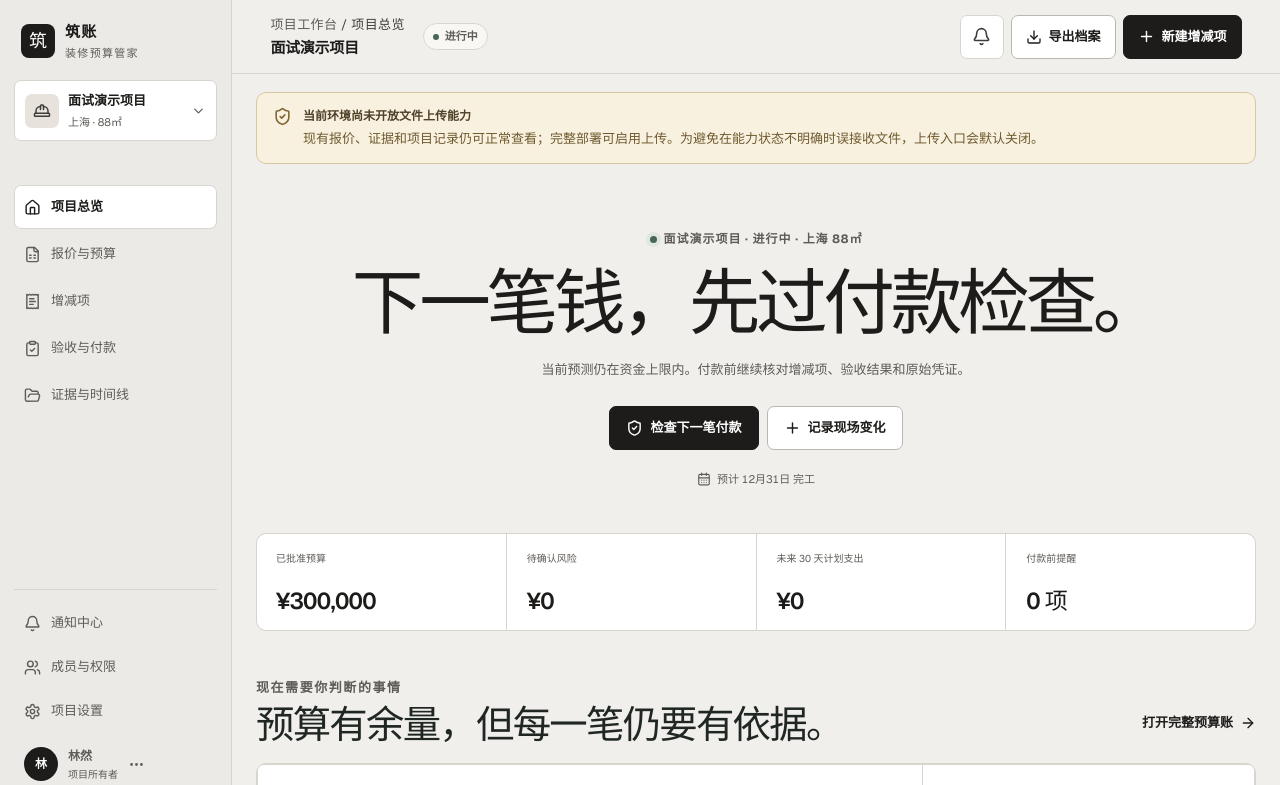
workspace upload capability › fails safe while an older session response has no capabilities
The width and height of the screenshot is (1280, 785).
Expected: the heading named "下一笔钱，先过付款检查。" is shown, [352,256,1160,349]
Expected: the text "当前环境尚未开放文件上传能力" is shown, [303,108,471,124]
Click the button "报价与预算" at (116, 254), box [14,232,217,276]
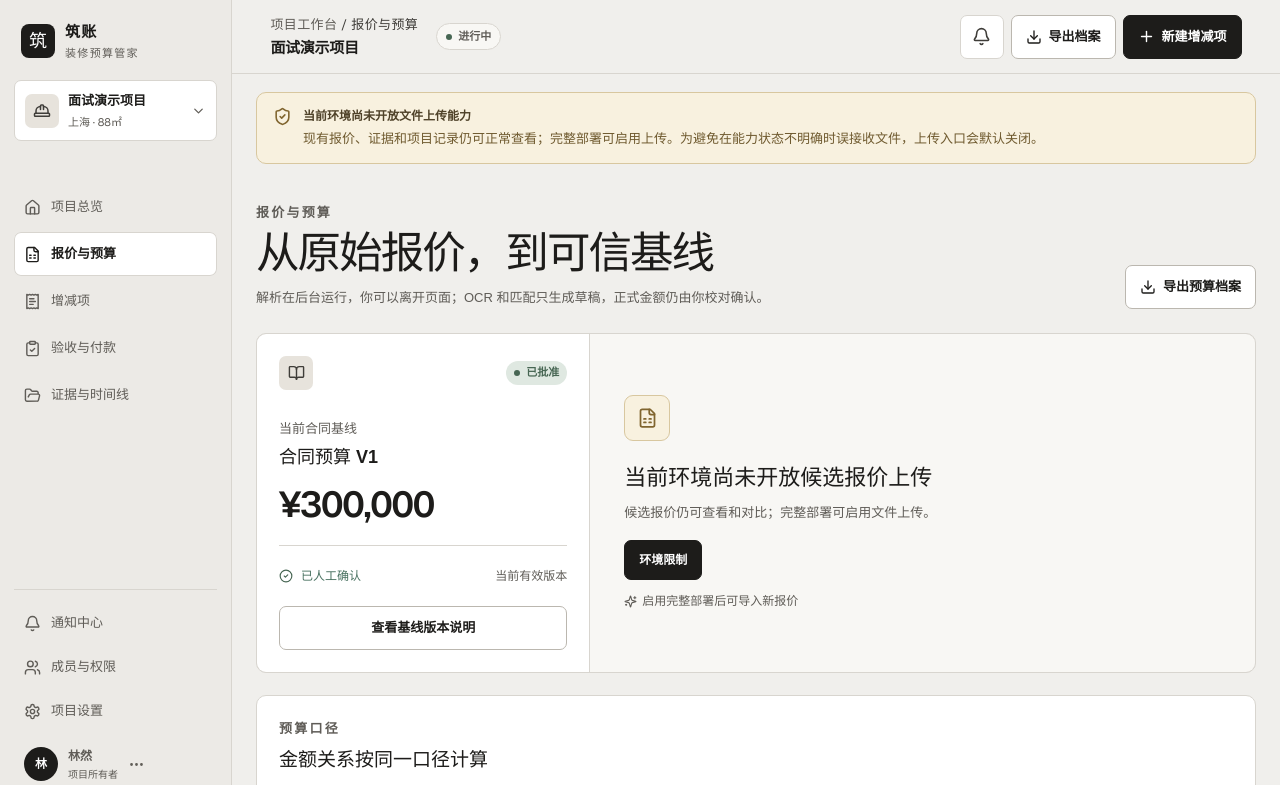
Result: the heading "当前环境尚未开放候选报价上传" is shown at [624,461,932,494]
Result: the file field named "导入候选报价文件" is disabled at [590,334,1255,672]
